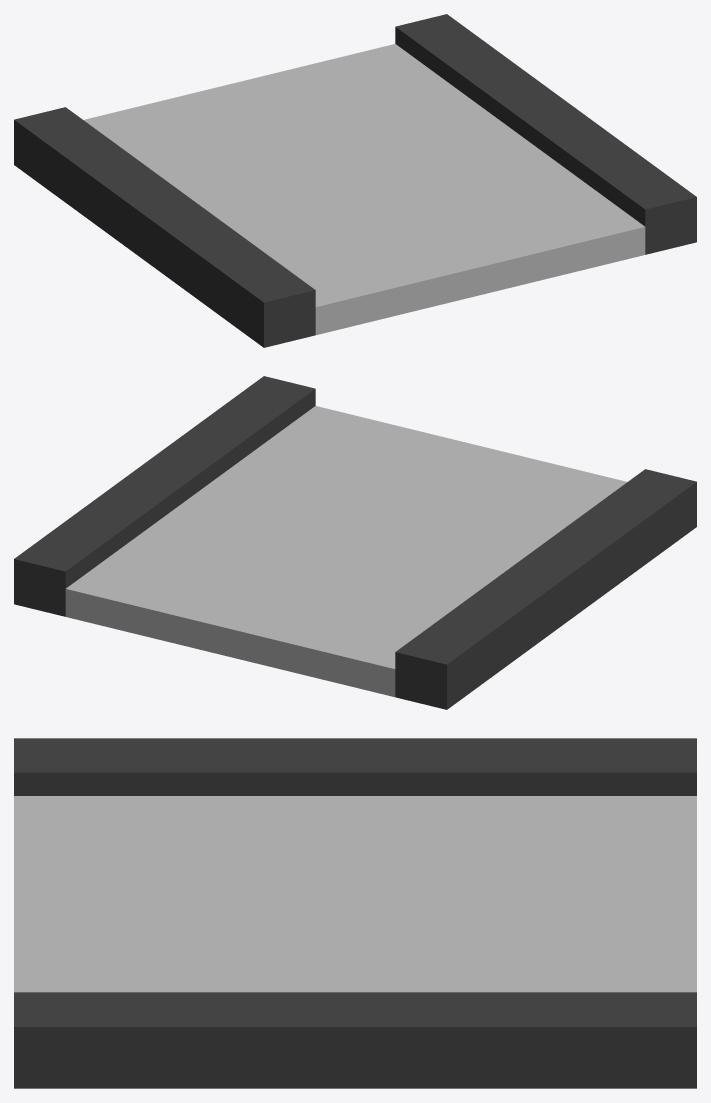
Rendered from black_straight(1).fbx.
The picture shows the model from 3 angles, top to bottom: view 1: azimuth 30°, elevation 25°; view 2: azimuth 150°, elevation 25°; view 3: azimuth 270°, elevation 25°; orthographic projection. The views are drawn at different scales.
Parts seen in each view (by area): view 1: black_straight; view 2: black_straight; view 3: black_straight.
Part boxes in pixels (bbox=[...]): black_straight: bbox=[14, 14, 696, 347]; black_straight: bbox=[14, 376, 696, 709]; black_straight: bbox=[14, 738, 696, 1088].
Size of the model in its own units: 1 by 0.1 by 1.
1 material, 1 textured.
